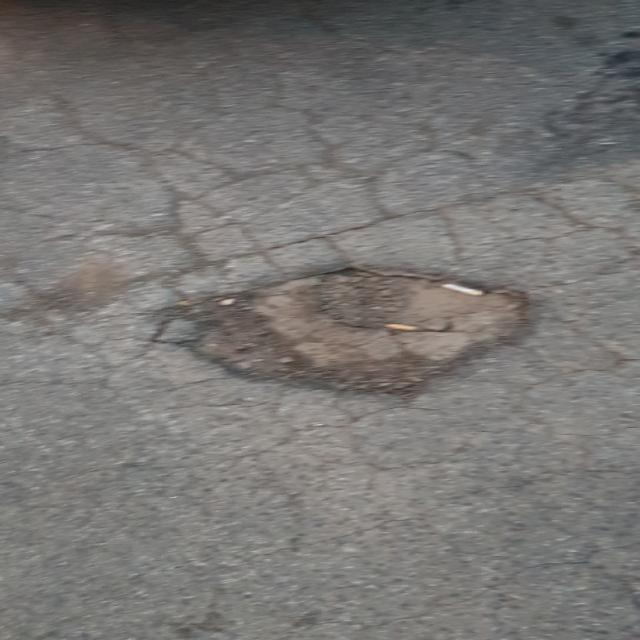Pothole: (142, 259, 542, 404)
